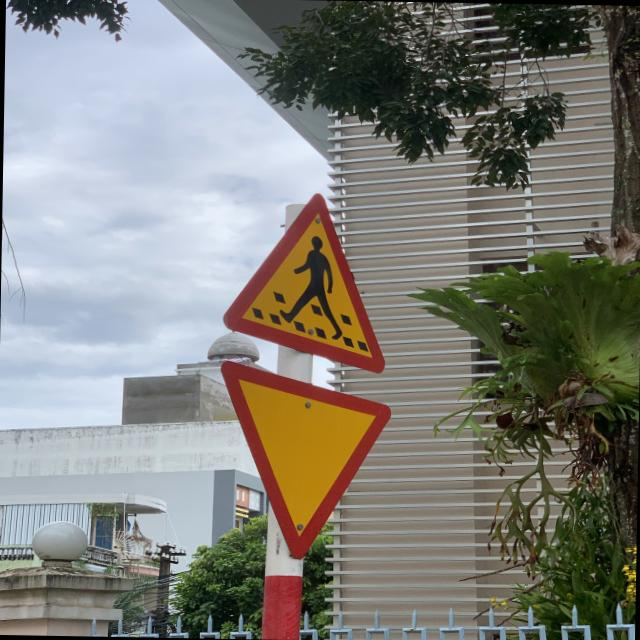Duong_Nguoi_Di_Bo_Sang_Ngang: (219, 187, 390, 370)
Gioi_Han_Toc_Do_25: (218, 360, 390, 559)
